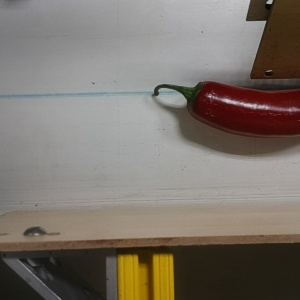Cut Point: (179, 79, 219, 120)
